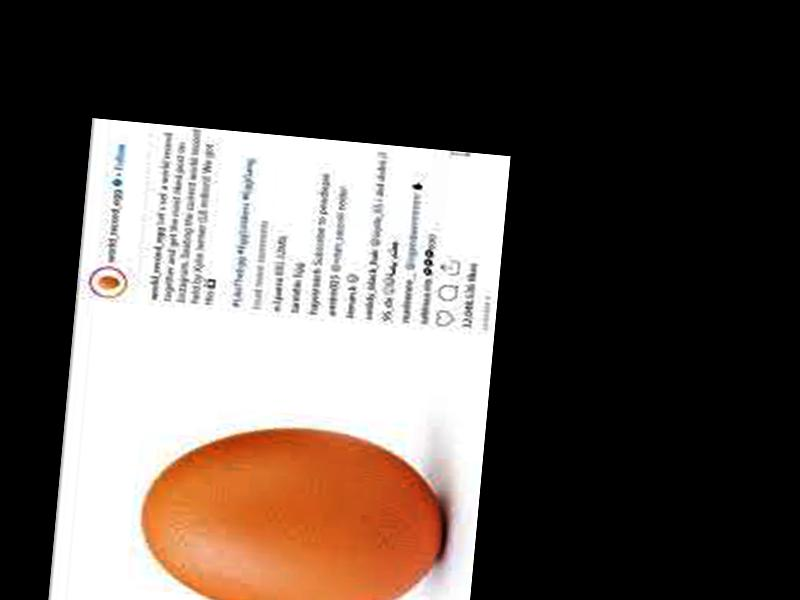Eggs: (133, 416, 448, 600)
